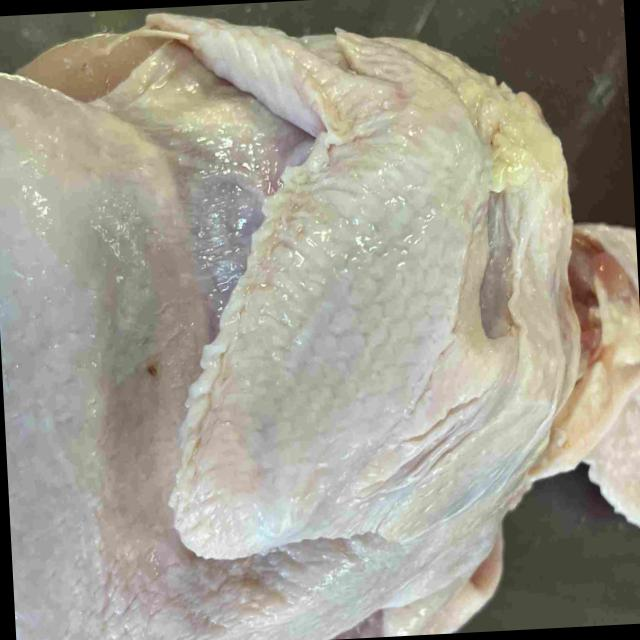back: (15, 519, 474, 640)
leg: (0, 83, 200, 567)
wing: (143, 10, 487, 559), (320, 533, 506, 640)
